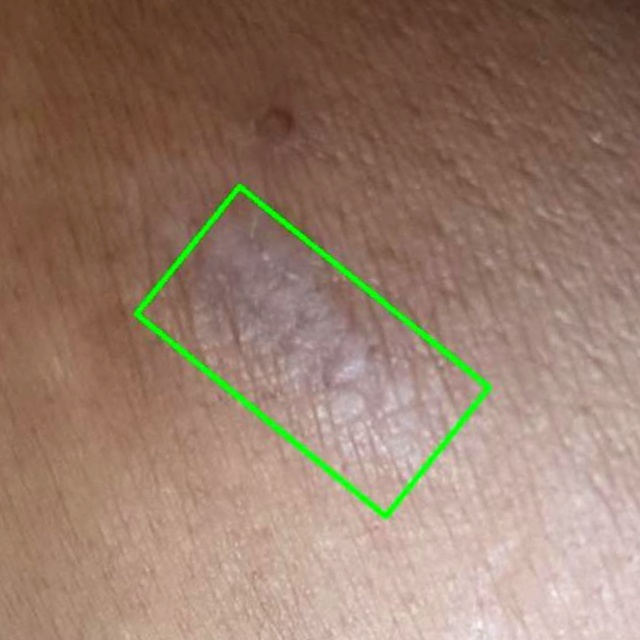Atopic Dermatitis: (135, 185, 489, 515)
